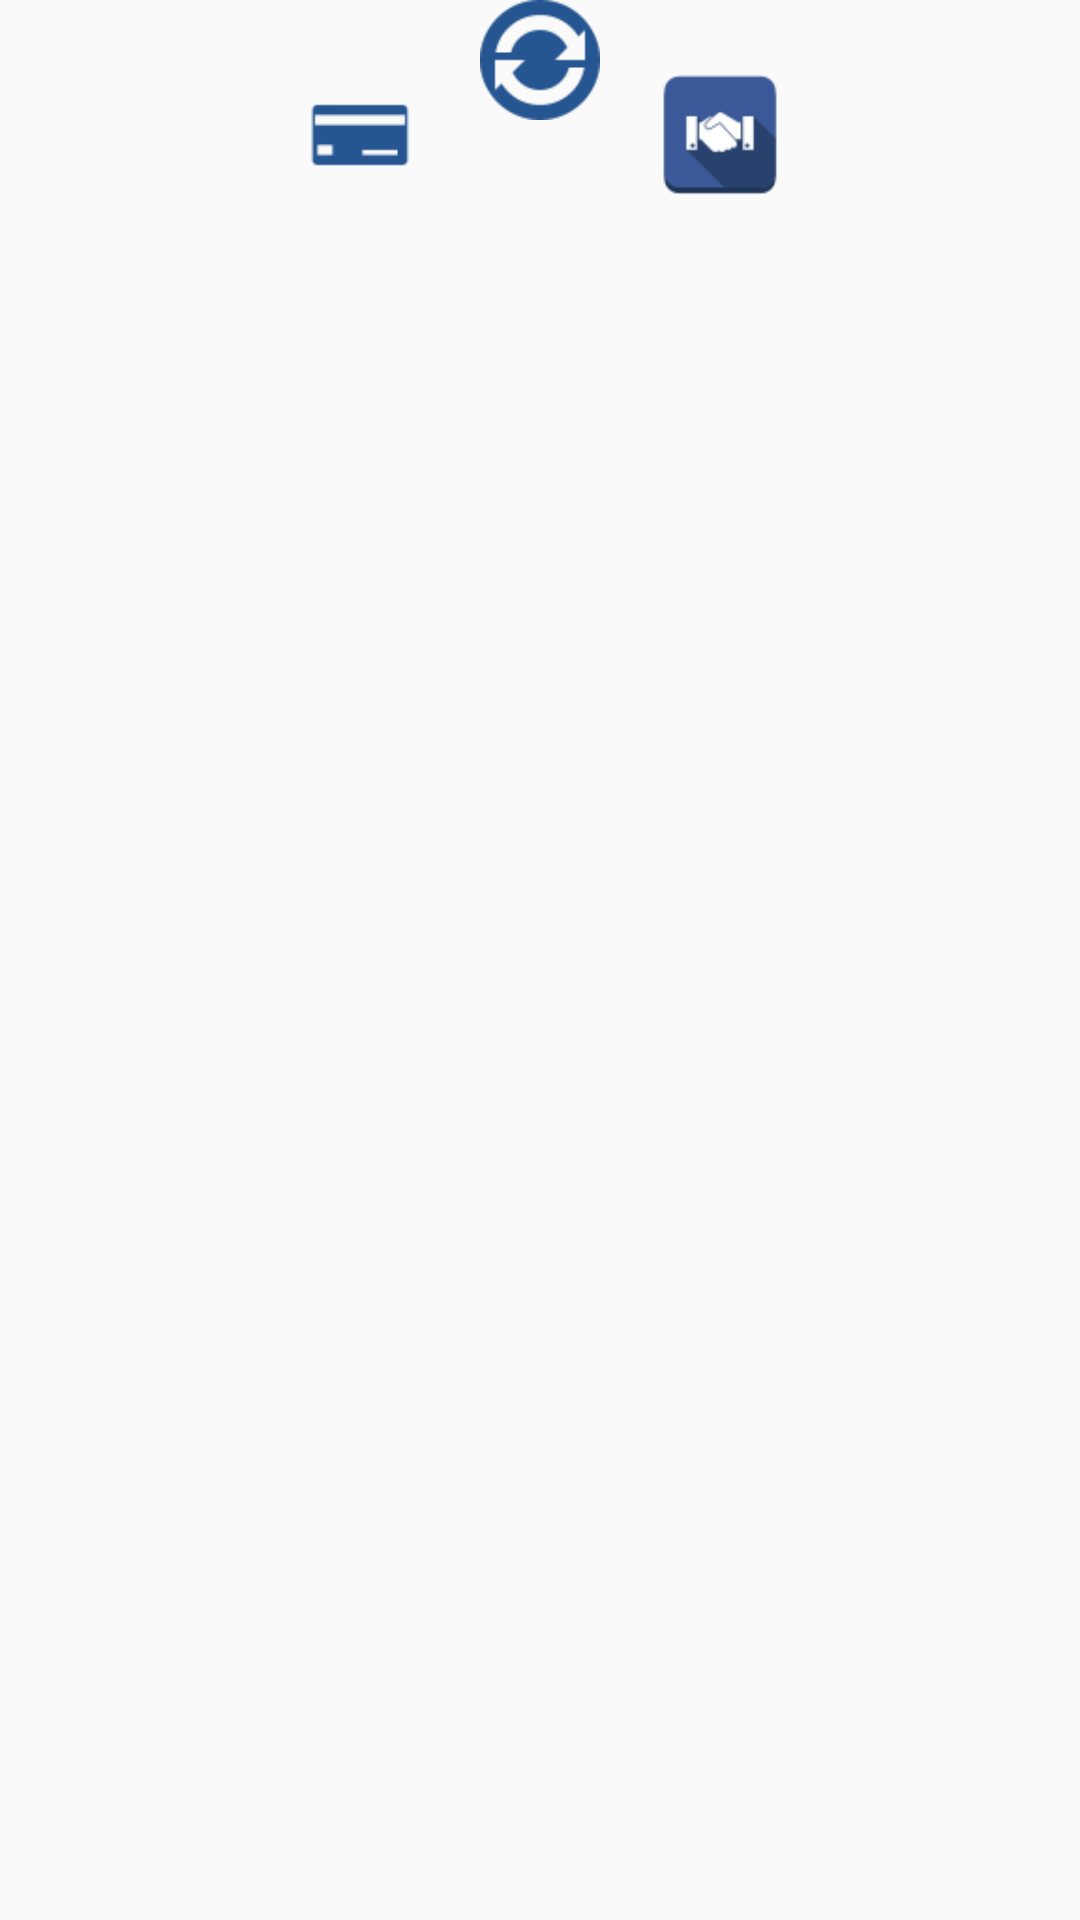

Icon click points for this 1080px x 1920px phone screenshot, format point (x, y):
friend: point (720, 134)
sync: point (540, 60)
